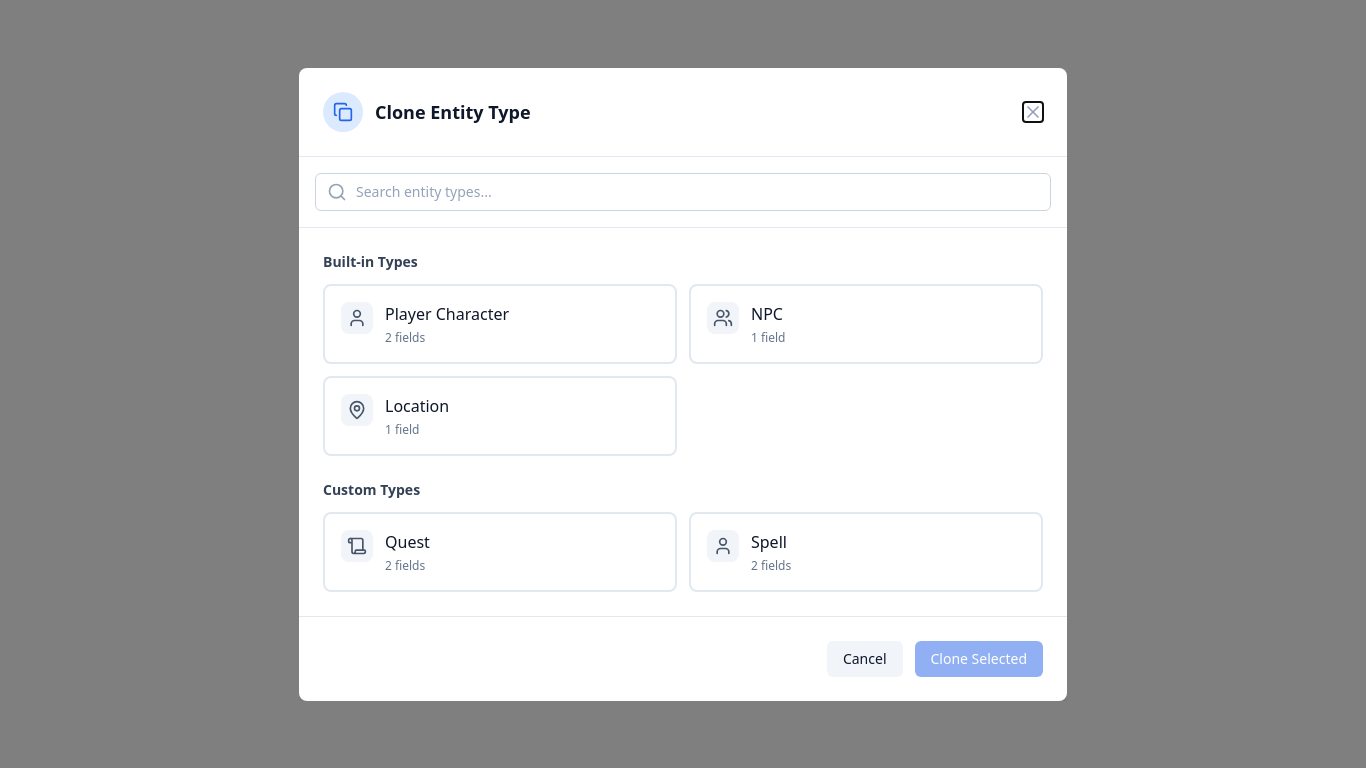
Test: EntityTypeClonePicker - Search/Filter (Issue #210) › should perform case-insensitive search
Type "NPC" into the field at (683, 192), box [315,172,1051,210]
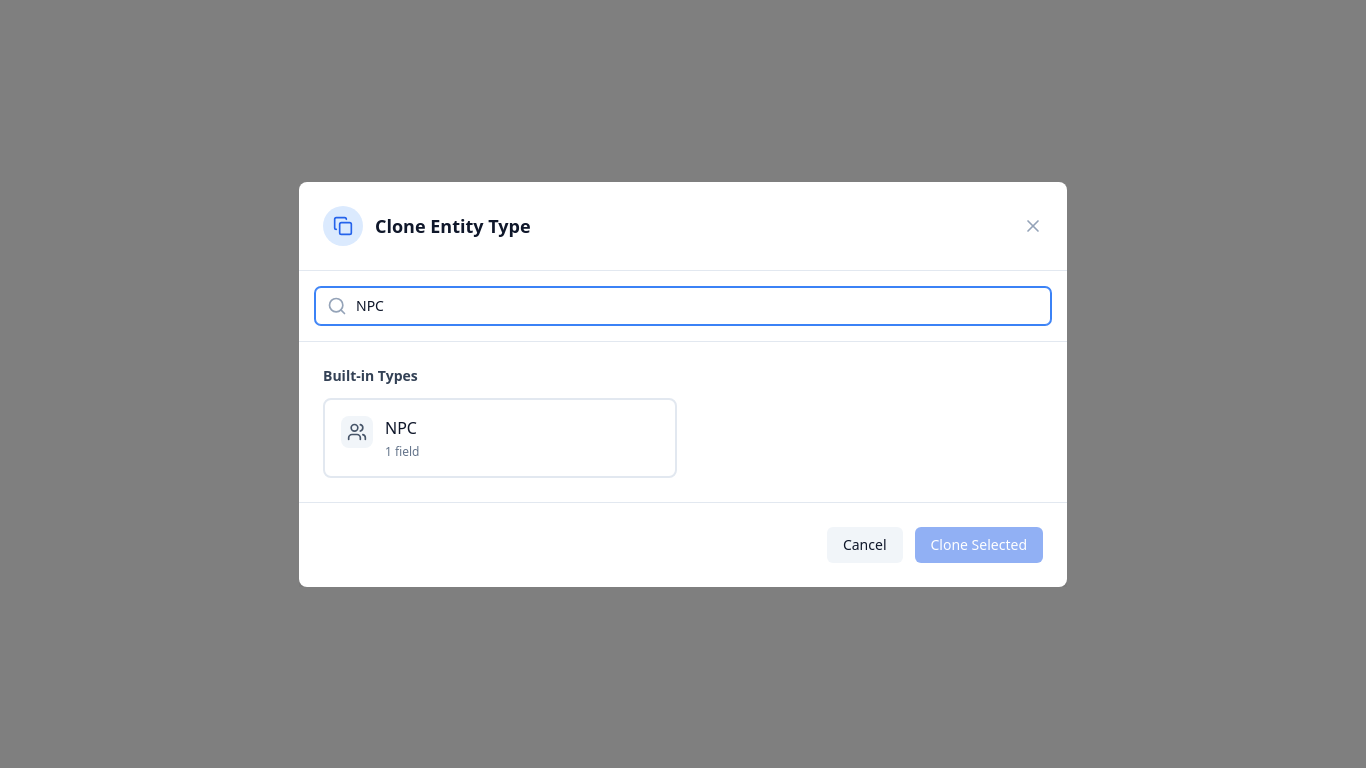
Now the heading "NPC" is shown, box [385,416,417,438]
